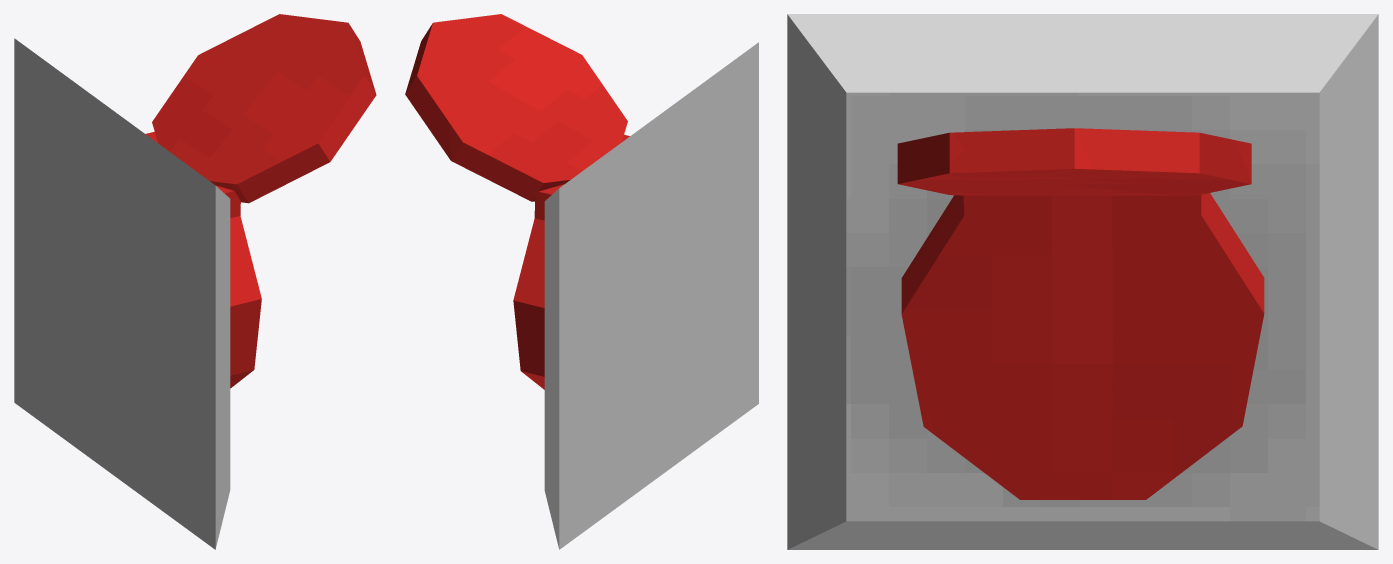
The model's file is PowerSocket3200.obj.
3 renders of one model, left to right at view 1: azimuth 30°, elevation 25°; view 2: azimuth 150°, elevation 25°; view 3: azimuth 270°, elevation 25°, orthographic. The views are drawn at different scales.
Parts seen in each view (by area): view 1: main; view 2: main; view 3: main.
Part boxes in pixels (x1=…): main: x1=14, y1=14, x2=376, y2=549; main: x1=405, y1=14, x2=758, y2=549; main: x1=787, y1=14, x2=1378, y2=549.
Size of the model in its own units: 0.2177 by 0.3424 by 0.3125.
2 materials, 2 textured.
